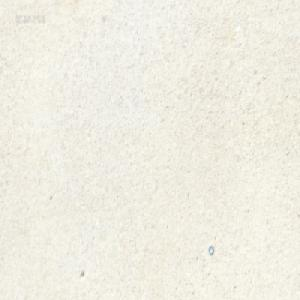Washer: (208, 244, 213, 255)
